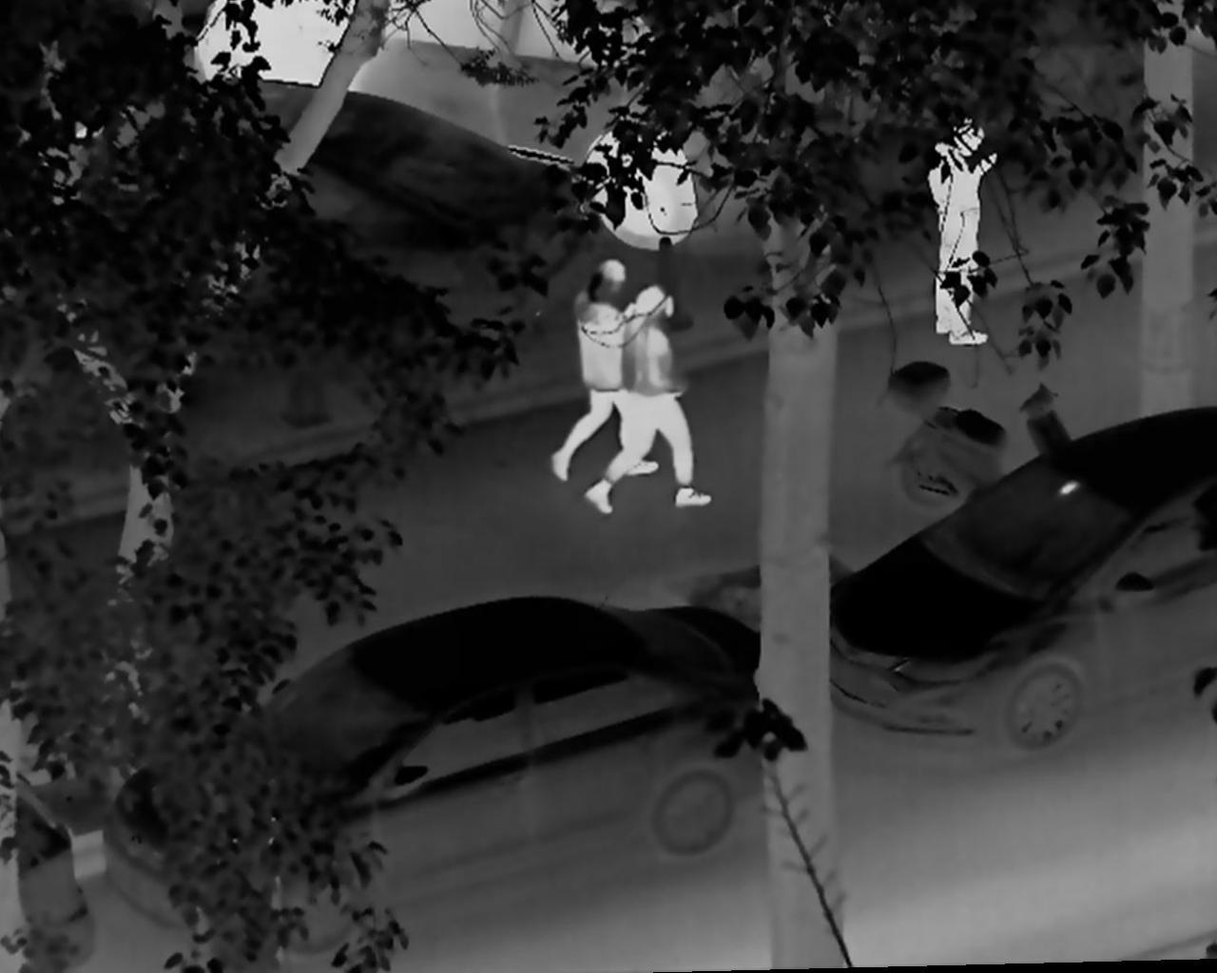person: (584, 284, 713, 522), (550, 256, 657, 484), (921, 116, 1004, 352)
